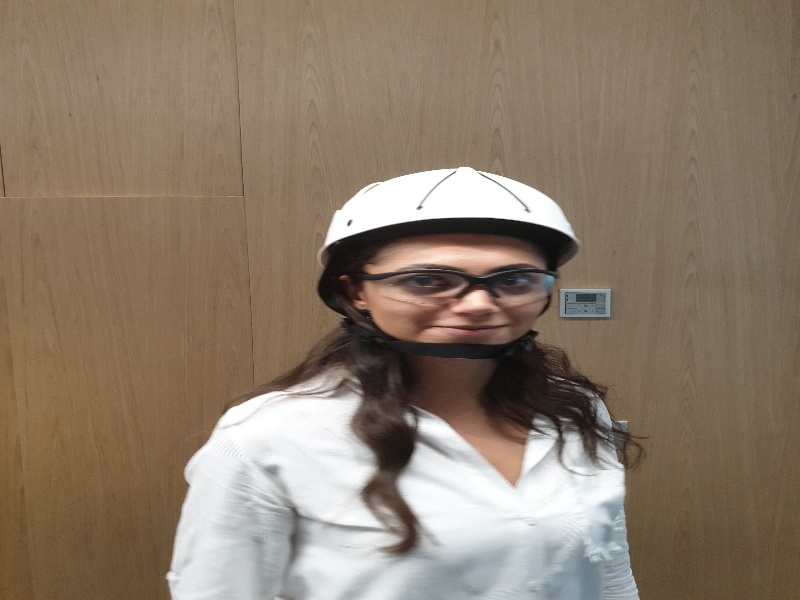Baret: (320, 167, 580, 246)
Gozluk: (332, 267, 559, 302)
